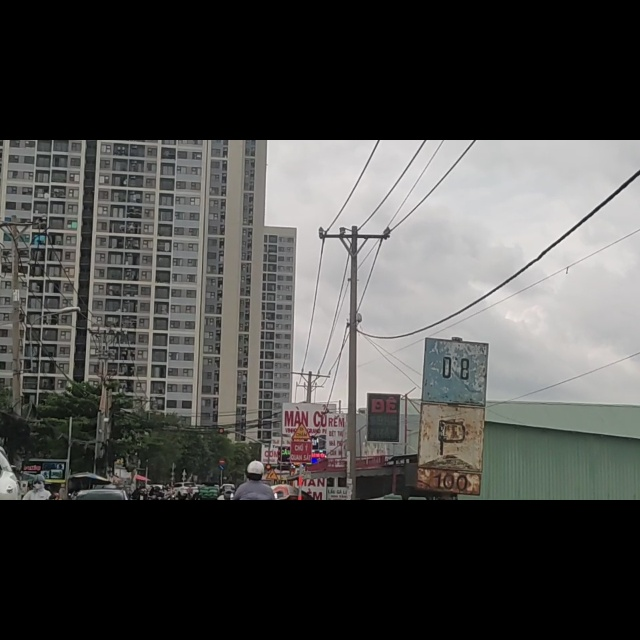bien_nguy_hiem: (290, 500, 310, 533)
